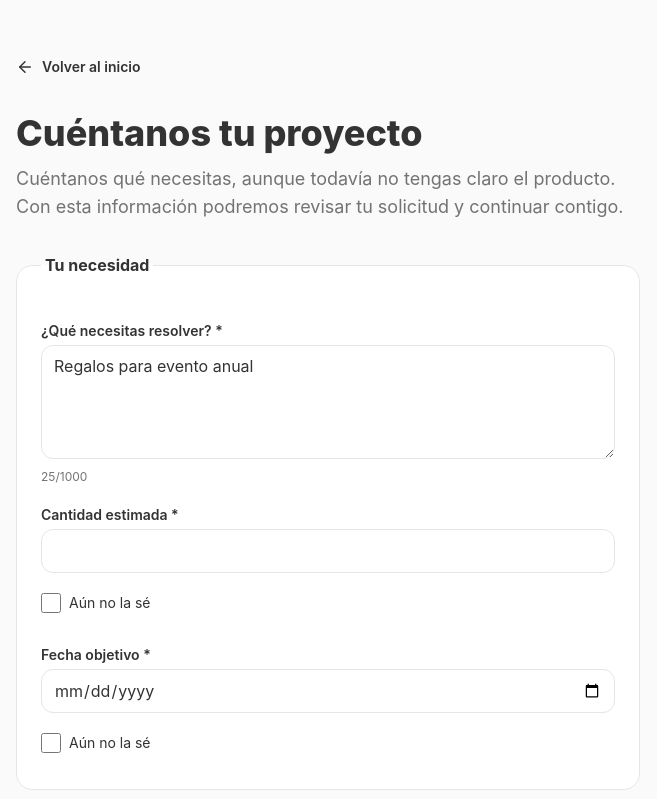
Test case: ProjectBriefView RB3-C submit › bloquea doble submit mientras la misma solicitud está pendiente
Earlier steps of the test are not shown.
Type "100" into the number field labelled "Cantidad estimada *".
click(328, 551); type("100")  # box [41,529,615,573]
Type "2026-12-01" into the date field with id "target_date".
click(328, 691); type("2026-12-01")  # box [41,669,615,713]
(page scrolled)
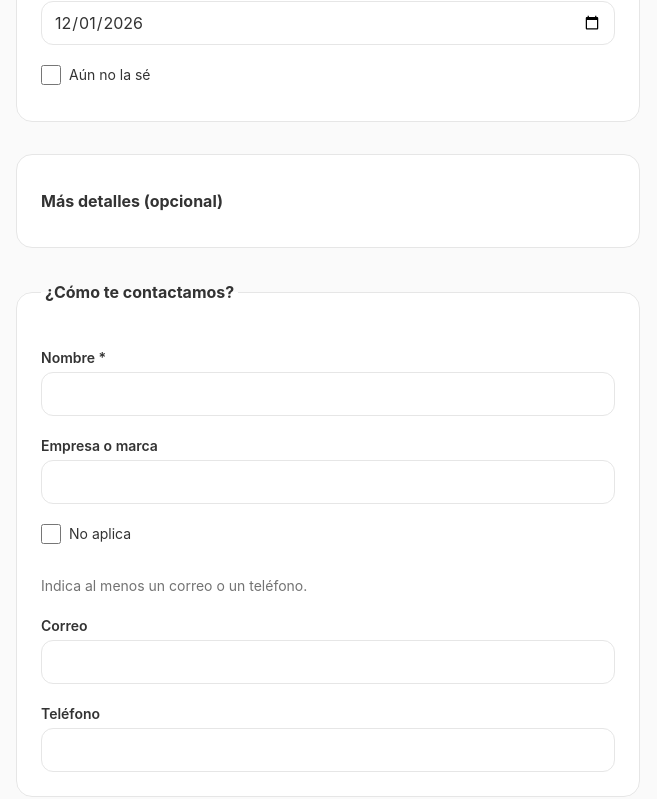
Type "Ana" into the field with id "contact_name".
click(328, 394); type("Ana")  # box [41,372,615,416]
Type "ana@empresa.com" into the field with id "email".
click(328, 662); type("ana@empresa.com")  # box [41,640,615,684]
(page scrolled)
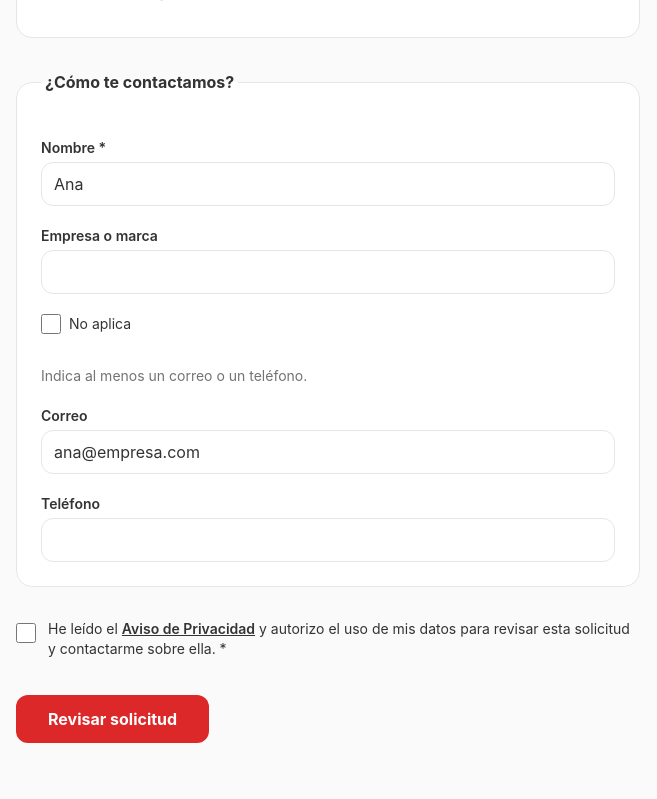
Click the checkbox labelled "Aviso de Privacidad".
click(26, 633)  # box [16,623,36,643]
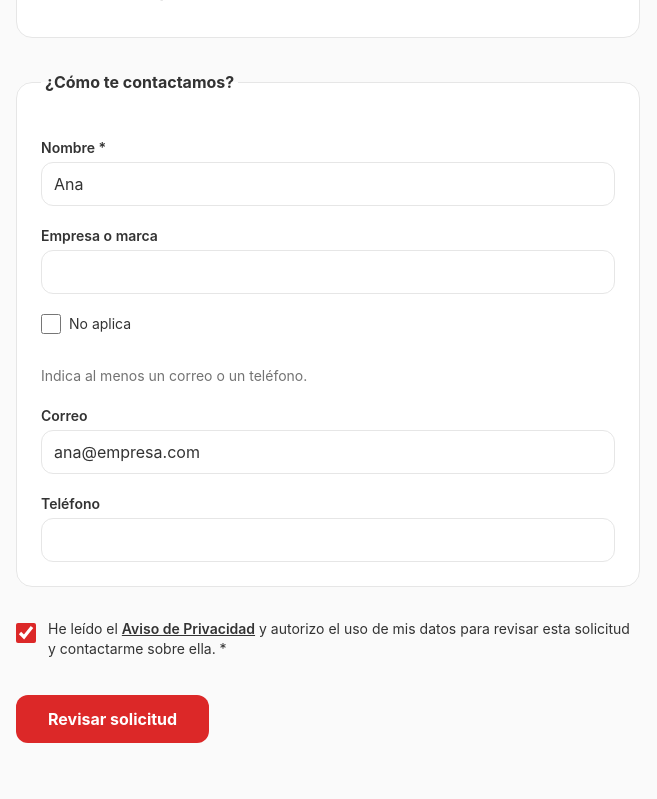
Click the button "Revisar solicitud".
click(113, 719)  # box [16,695,209,743]
(page scrolled)
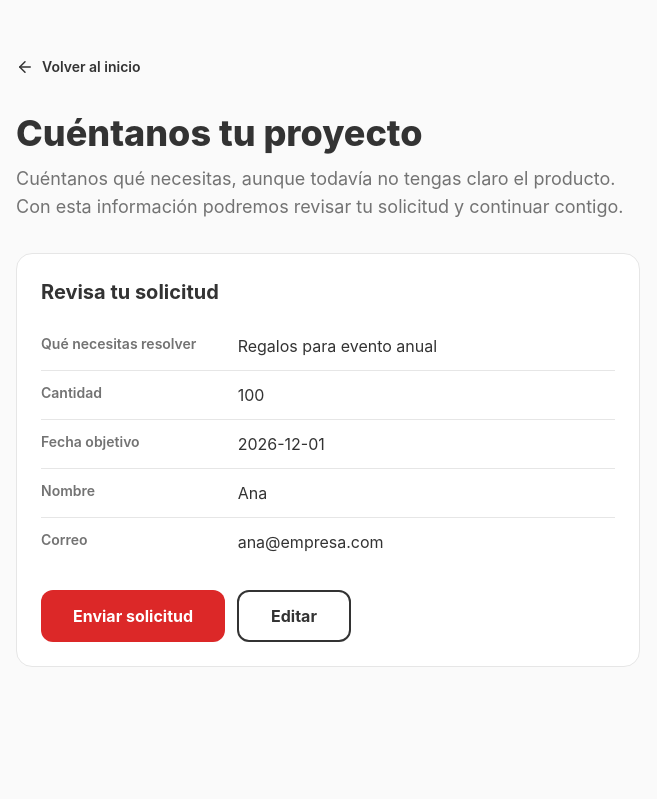
Click the button "Enviar solicitud".
click(133, 616)  # box [41,590,225,642]
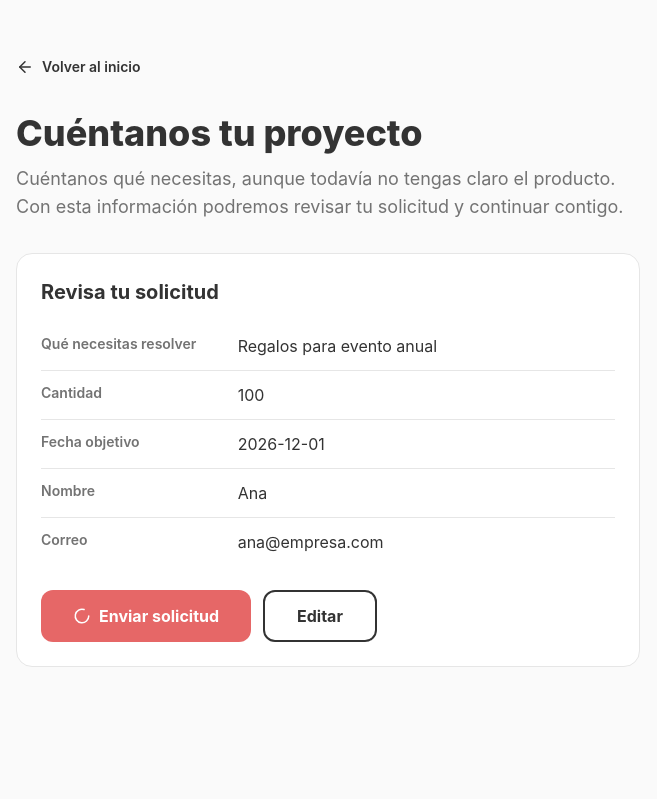
Click the button "Enviar solicitud".
click(146, 616)  # box [41,590,251,642]
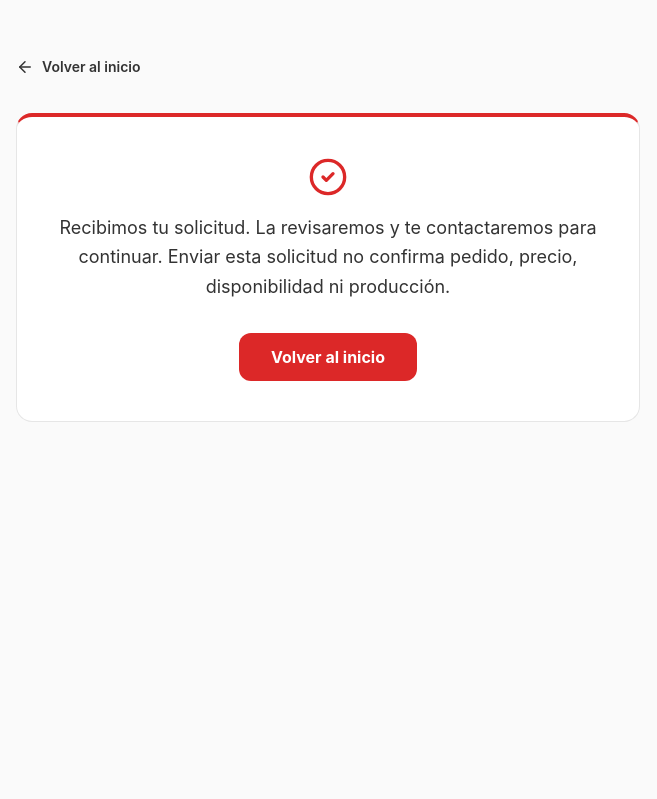
Expected: the message is shown, [16,113,640,422]
